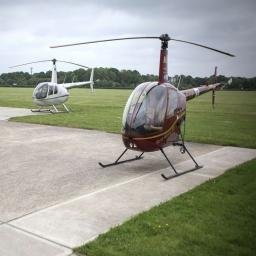helicopter: (50, 33, 237, 182), (11, 60, 101, 117)
